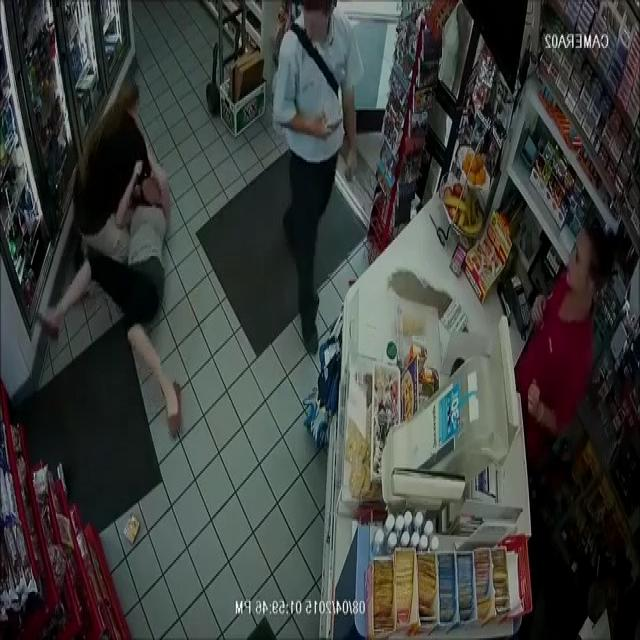fight: (33, 81, 184, 446)
